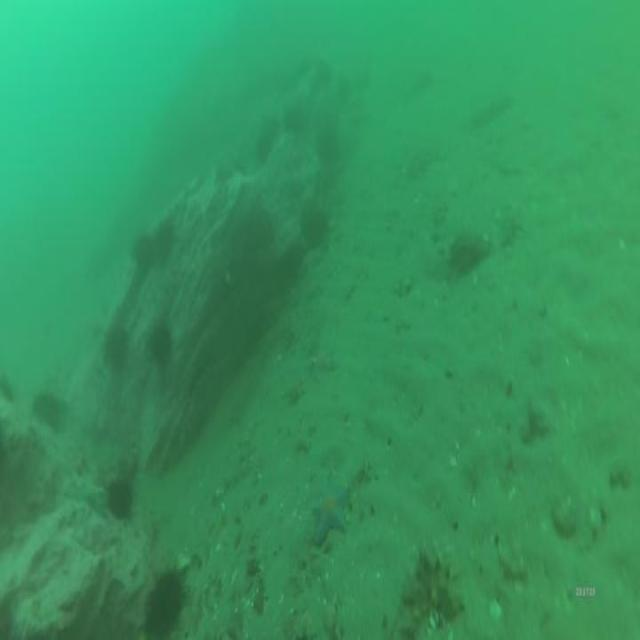echinus: (141, 556, 191, 640), (103, 469, 143, 531), (298, 192, 328, 254), (142, 321, 178, 371), (104, 319, 131, 375), (34, 387, 63, 435), (153, 216, 177, 262), (132, 230, 154, 274)
holothurian: (399, 548, 464, 626)
starfish: (308, 479, 351, 545)
